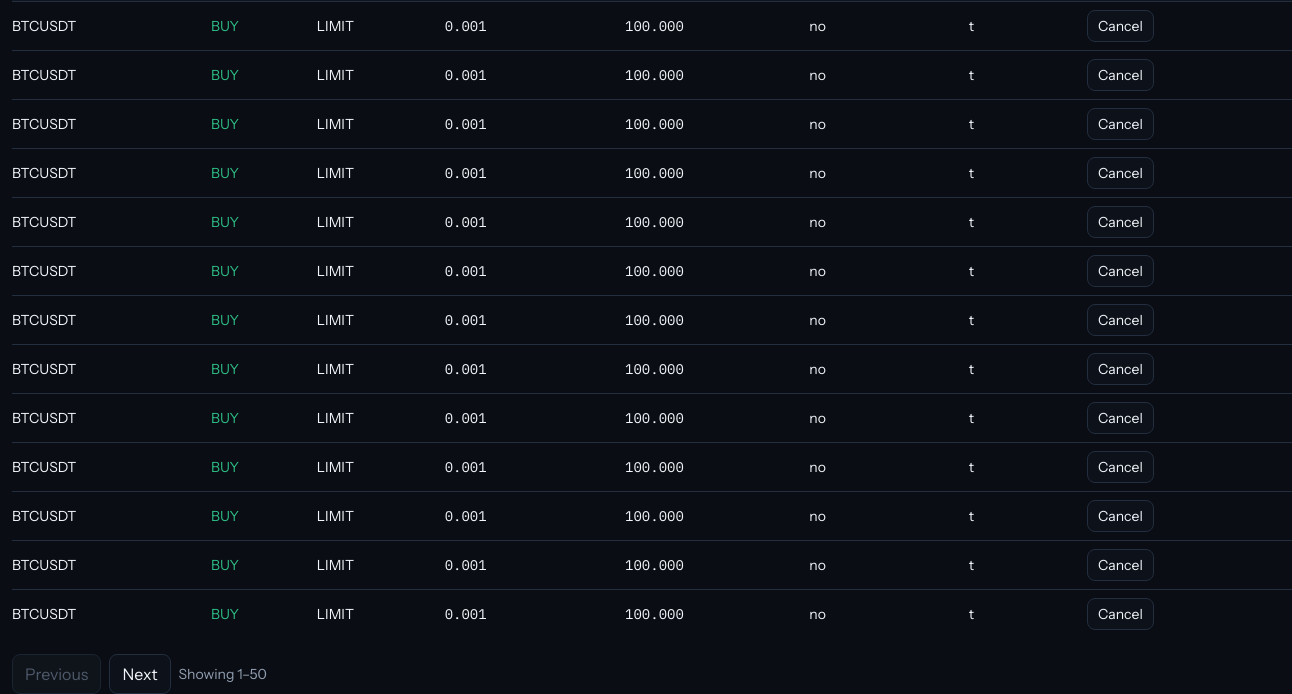
OpenOrdersTable › loads page 2 at offset 50 and keeps Previous enabled
The image size is (1292, 694).
(page scrolled)
Expected: the text "Showing 1–50" is shown, [178,664,267,684]
Click the button "Next".
click(140, 674)  # box [109,654,170,693]
(page scrolled)
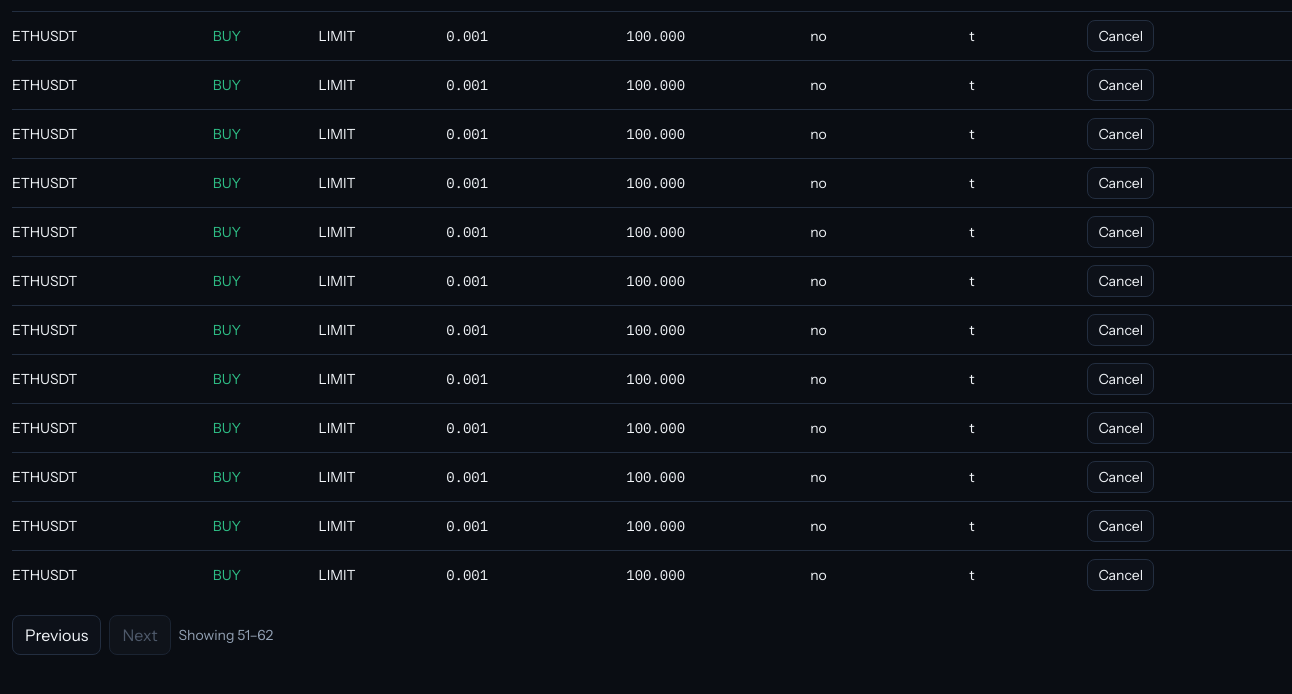
Expected: the text "Showing 51–62" is shown, [178,625,273,645]
Expected: the text "ETHUSDT" is shown 12 times
Expected: the text "BTCUSDT" is gone
